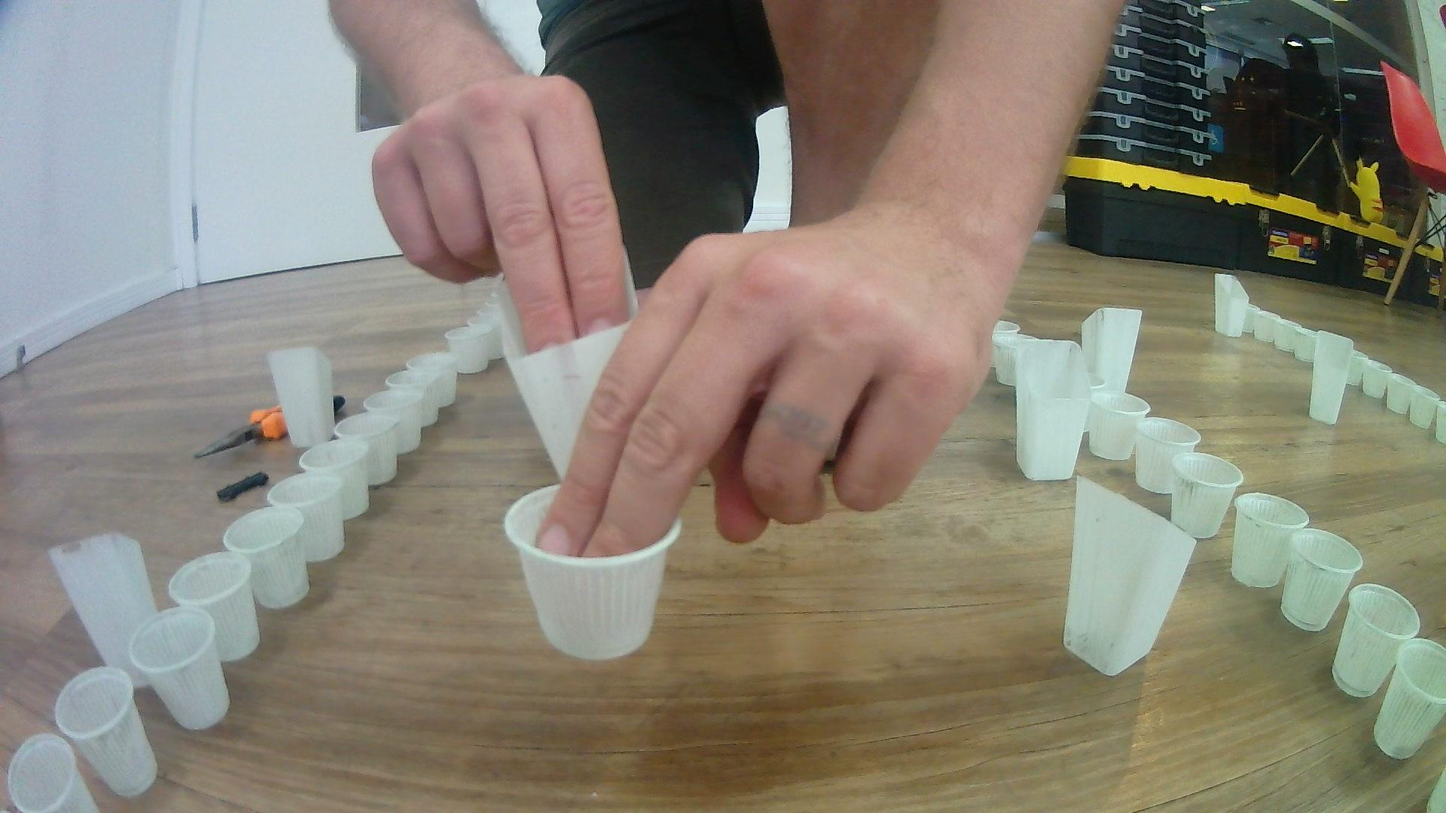erva_daninha: (490, 267, 641, 486), (1060, 473, 1197, 677), (50, 532, 160, 689), (1013, 337, 1091, 482), (267, 346, 337, 450), (1079, 306, 1143, 397), (1308, 329, 1356, 426), (1214, 273, 1251, 338)
planta: (502, 480, 685, 662), (56, 666, 160, 799), (128, 604, 232, 731), (1330, 583, 1421, 699), (167, 551, 261, 663), (224, 506, 311, 610), (1373, 638, 1446, 760), (1280, 528, 1364, 632), (1228, 492, 1310, 589), (6, 733, 105, 813), (267, 473, 346, 564), (1169, 452, 1245, 540), (299, 438, 371, 522), (1132, 416, 1201, 495), (336, 411, 398, 486), (1088, 391, 1152, 461), (362, 388, 422, 456), (385, 369, 441, 428), (407, 353, 458, 409), (444, 326, 490, 376), (463, 310, 503, 361), (994, 334, 1027, 387), (1408, 386, 1441, 429), (990, 320, 1020, 367), (1386, 373, 1420, 414), (1243, 303, 1274, 342), (1362, 361, 1393, 399), (1290, 327, 1322, 363), (477, 298, 505, 338), (1271, 317, 1299, 352), (1346, 350, 1369, 387), (1435, 400, 1446, 445)
